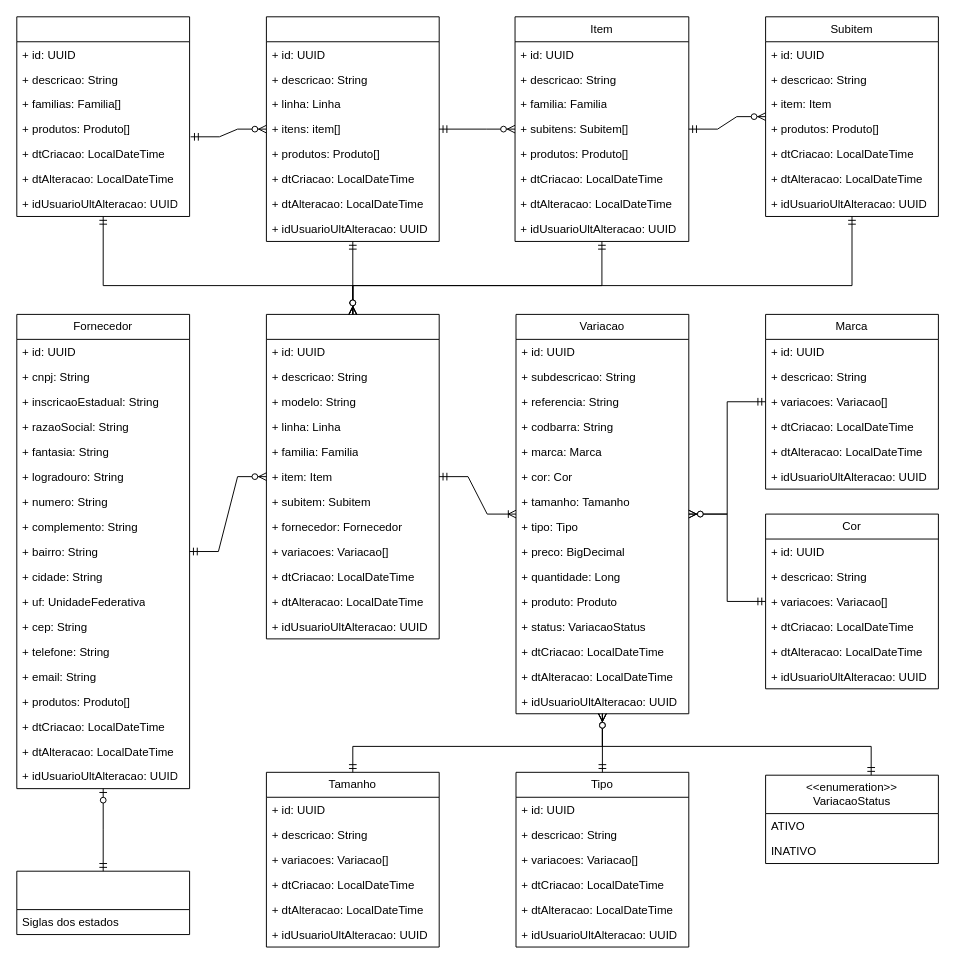
Some shapes in this 955 by 967 pixel diagram are drawn without their labels. The shapes that lost their labels are listed below. From the top down, each one's box as (x1, y1, x2, y2) in pixels, then its label:
(16, 16, 190, 216): Linha
(265, 16, 439, 241): Familia
(265, 313, 439, 639): Produto
(16, 870, 190, 935): <<enumeration>> UnidadeFederativa
